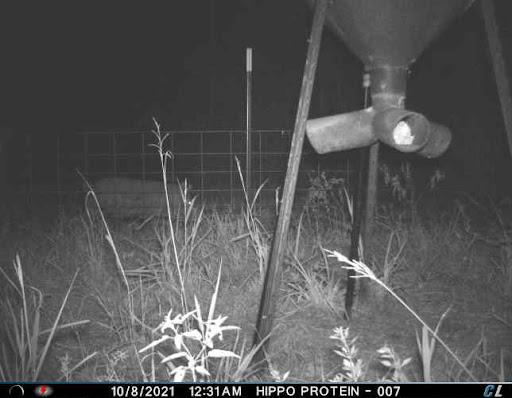Hog: (78, 171, 208, 239)
